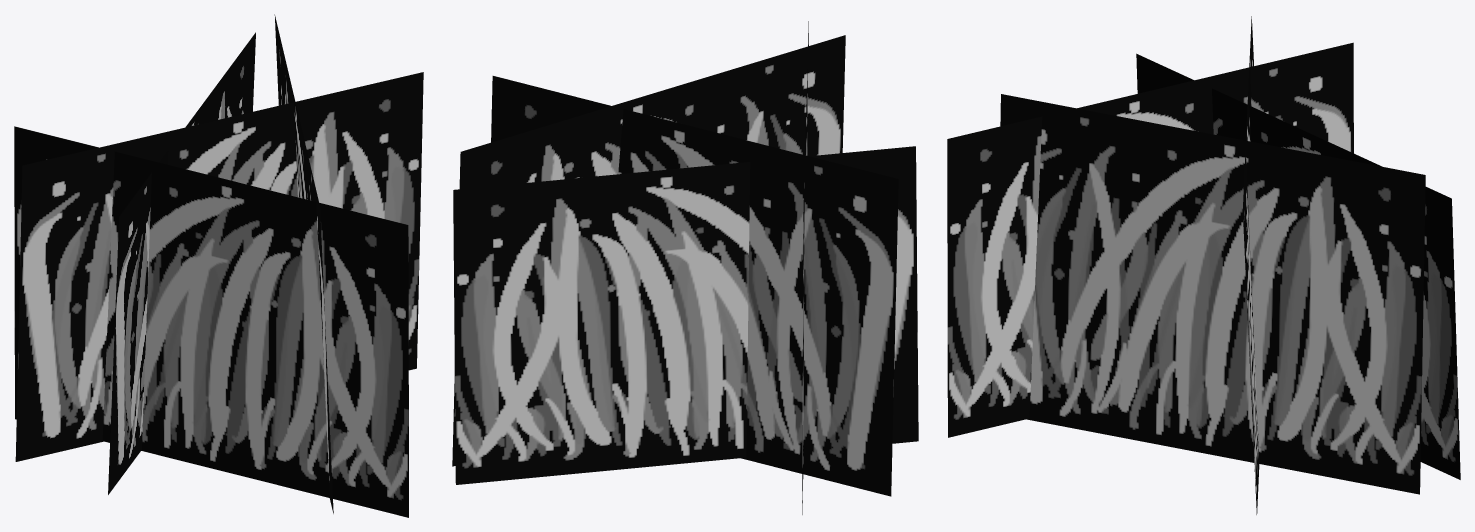
Rendered from ENV_GrassBlade_Unity.fbx.
The picture shows the model from 3 angles, left to right: view 1: azimuth 30°, elevation 25°; view 2: azimuth 150°, elevation 25°; view 3: azimuth 270°, elevation 25°; orthographic projection. The views are drawn at different scales.
Parts seen in each view (by area): view 1: Plane.012; view 2: Plane.012; view 3: Plane.012.
Boxes of the visible parts, x1,y1,x2,y2 form: Plane.012: (14, 14, 423, 517); Plane.012: (452, 21, 918, 514); Plane.012: (947, 16, 1460, 514).
Size of the model in its own units: 107 by 79.61 by 118.
Materials: 1 (1 with a texture image).
